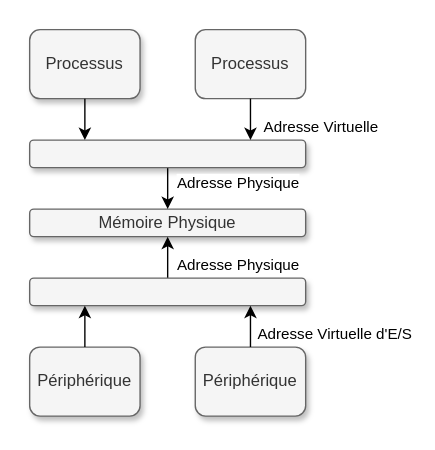
This 435x450 diagram has some shape labels left out. Each missing label, with the centre of its shape:
"IOMMU" belongs at point (168, 293).
"MMU" belongs at point (168, 155).
